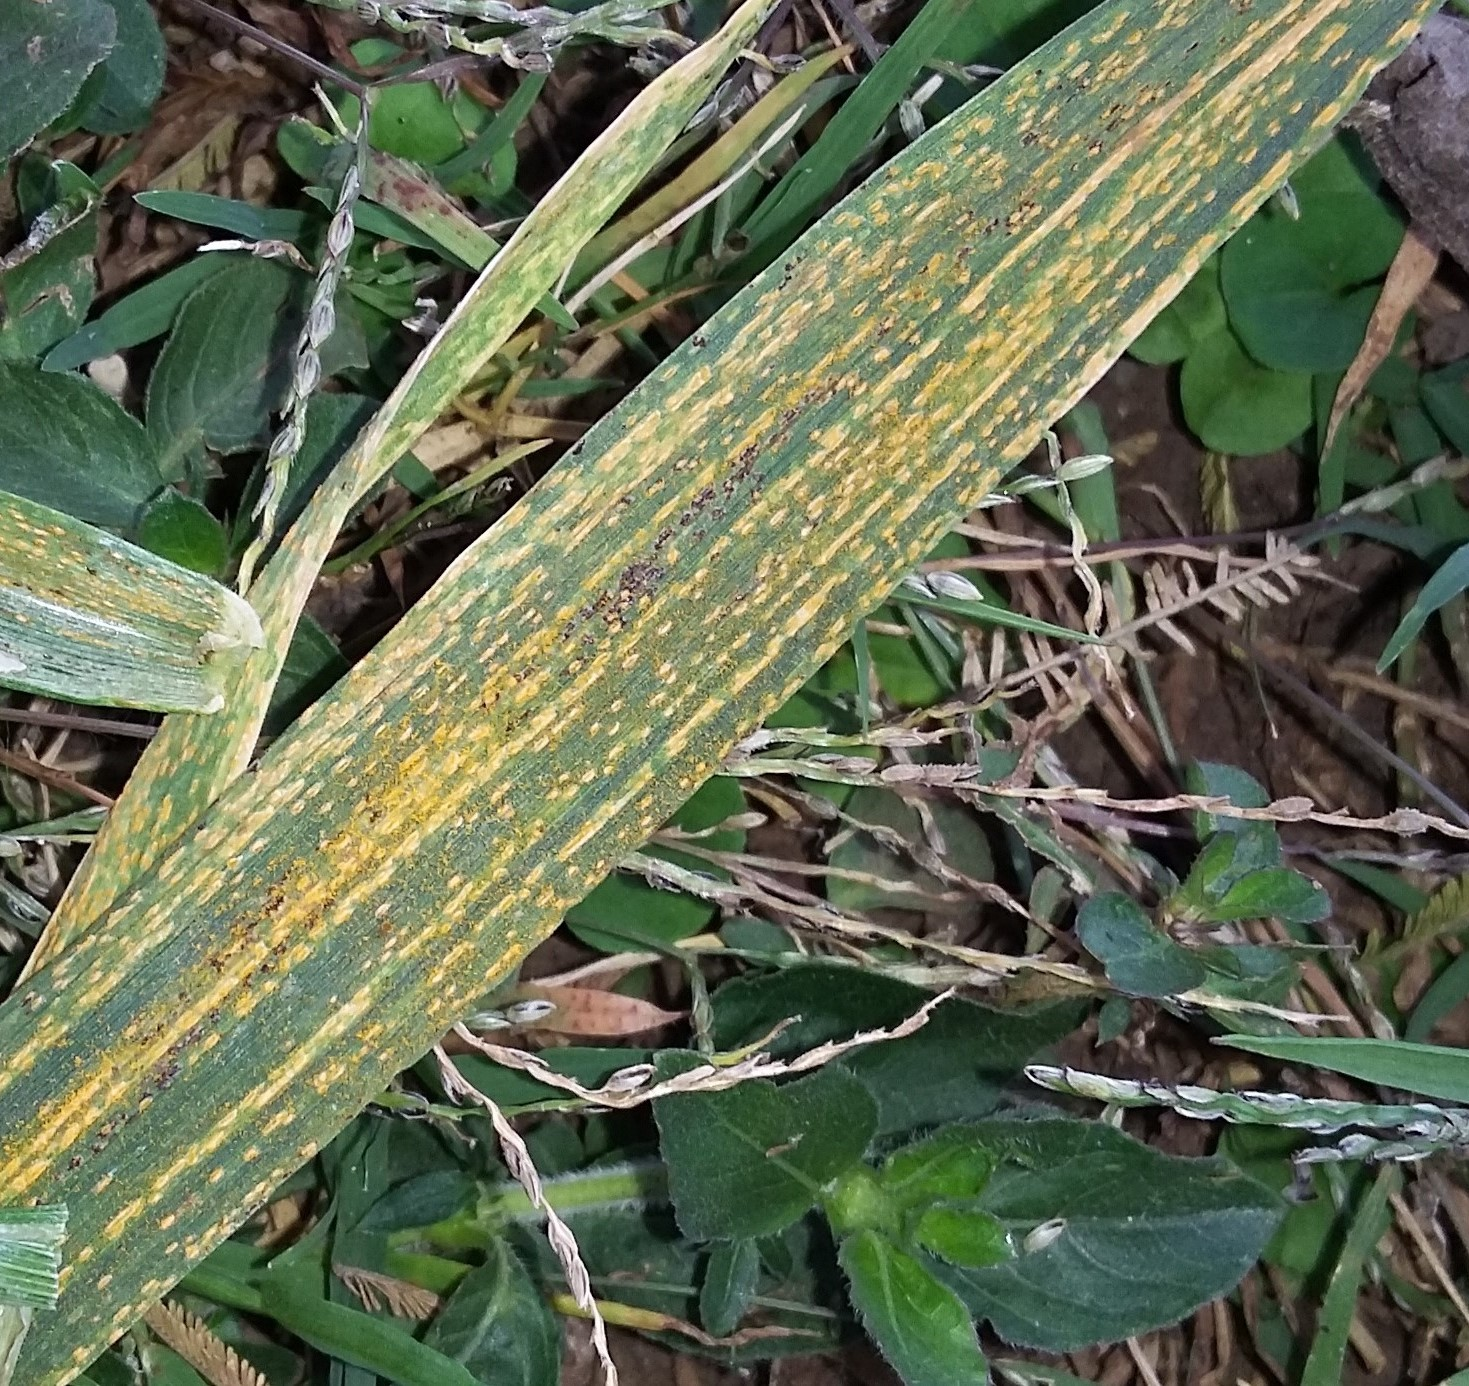Leaf Rust: (171, 231, 1130, 1136)
